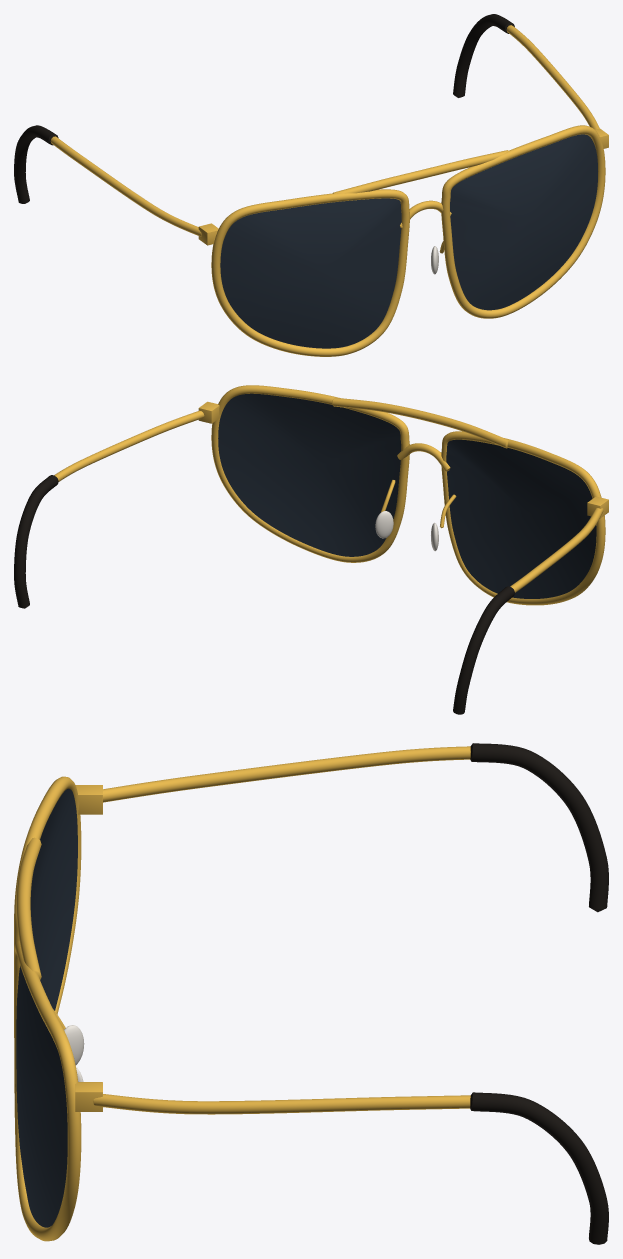
The model's file is aviator-sunglasses.glb.
The picture shows the model from 3 angles, top to bottom: view 1: azimuth 30°, elevation 25°; view 2: azimuth 150°, elevation 25°; view 3: azimuth 270°, elevation 25°; orthographic projection. The views are drawn at different scales.
Visible parts, largest first — view 1: AviatorLenses, AviatorFrame, AviatorTips; view 2: AviatorLenses, AviatorFrame, AviatorTips, AviatorPads; view 3: AviatorFrame, AviatorLenses, AviatorTips.
Part boxes in pixels (box(x1,y1,x2,y2)): AviatorLenses: box(220, 134, 597, 348); AviatorFrame: box(50, 25, 608, 356); AviatorTips: box(14, 14, 514, 203); AviatorLenses: box(218, 393, 596, 598); AviatorFrame: box(54, 385, 608, 605); AviatorTips: box(14, 475, 514, 714); AviatorPads: box(375, 511, 438, 551); AviatorFrame: box(14, 746, 470, 1241); AviatorLenses: box(16, 788, 77, 1227); AviatorTips: box(470, 743, 608, 1244).
Bounding box in the file's own units: 1.07 × 0.3677 × 0.7562.
